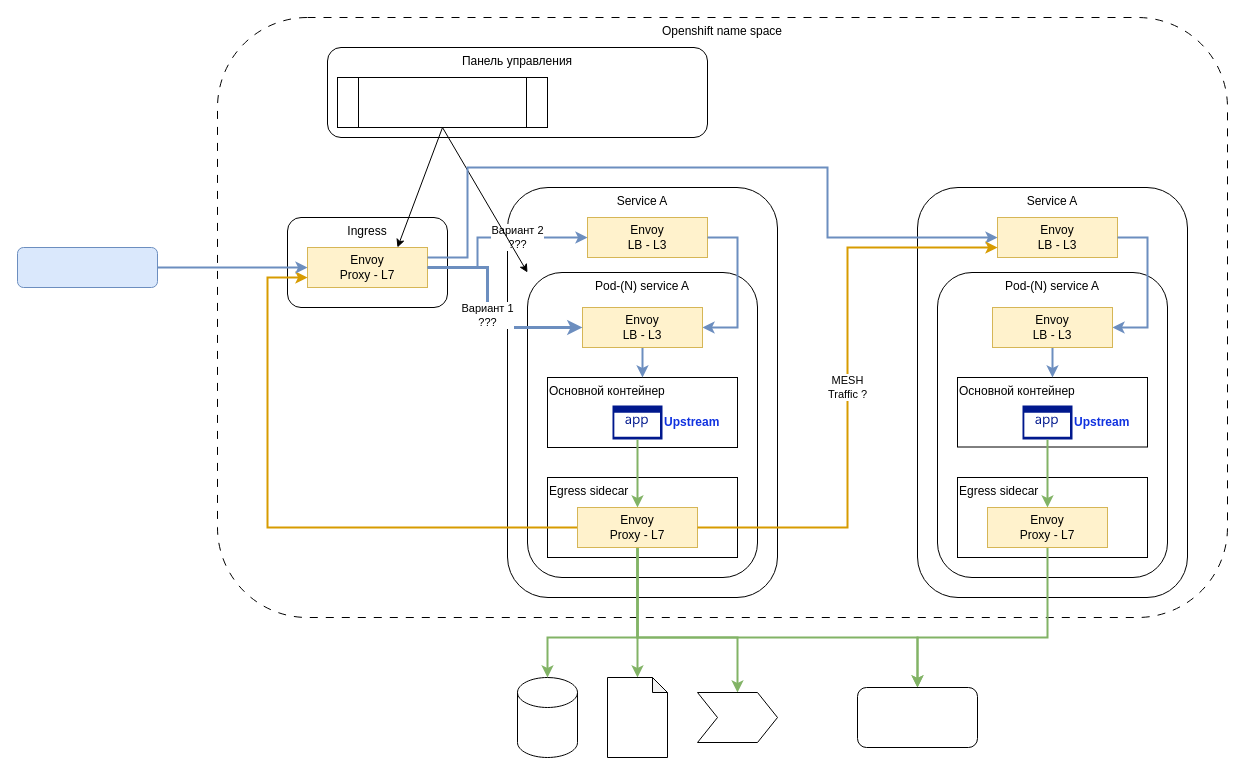
This 1245x775 diagram has some shape labels left out. Each missing label, with the centre of its shape:
DB: [547,717]
Downstream (Потребитель сервиса): [87,267]
HTTPS API Другие поставщики: [917,717]
MQ: [637,717]
Изменение кол-во подов обновляется конфиг Cluster: [442,102]
Кафка: [737,717]
